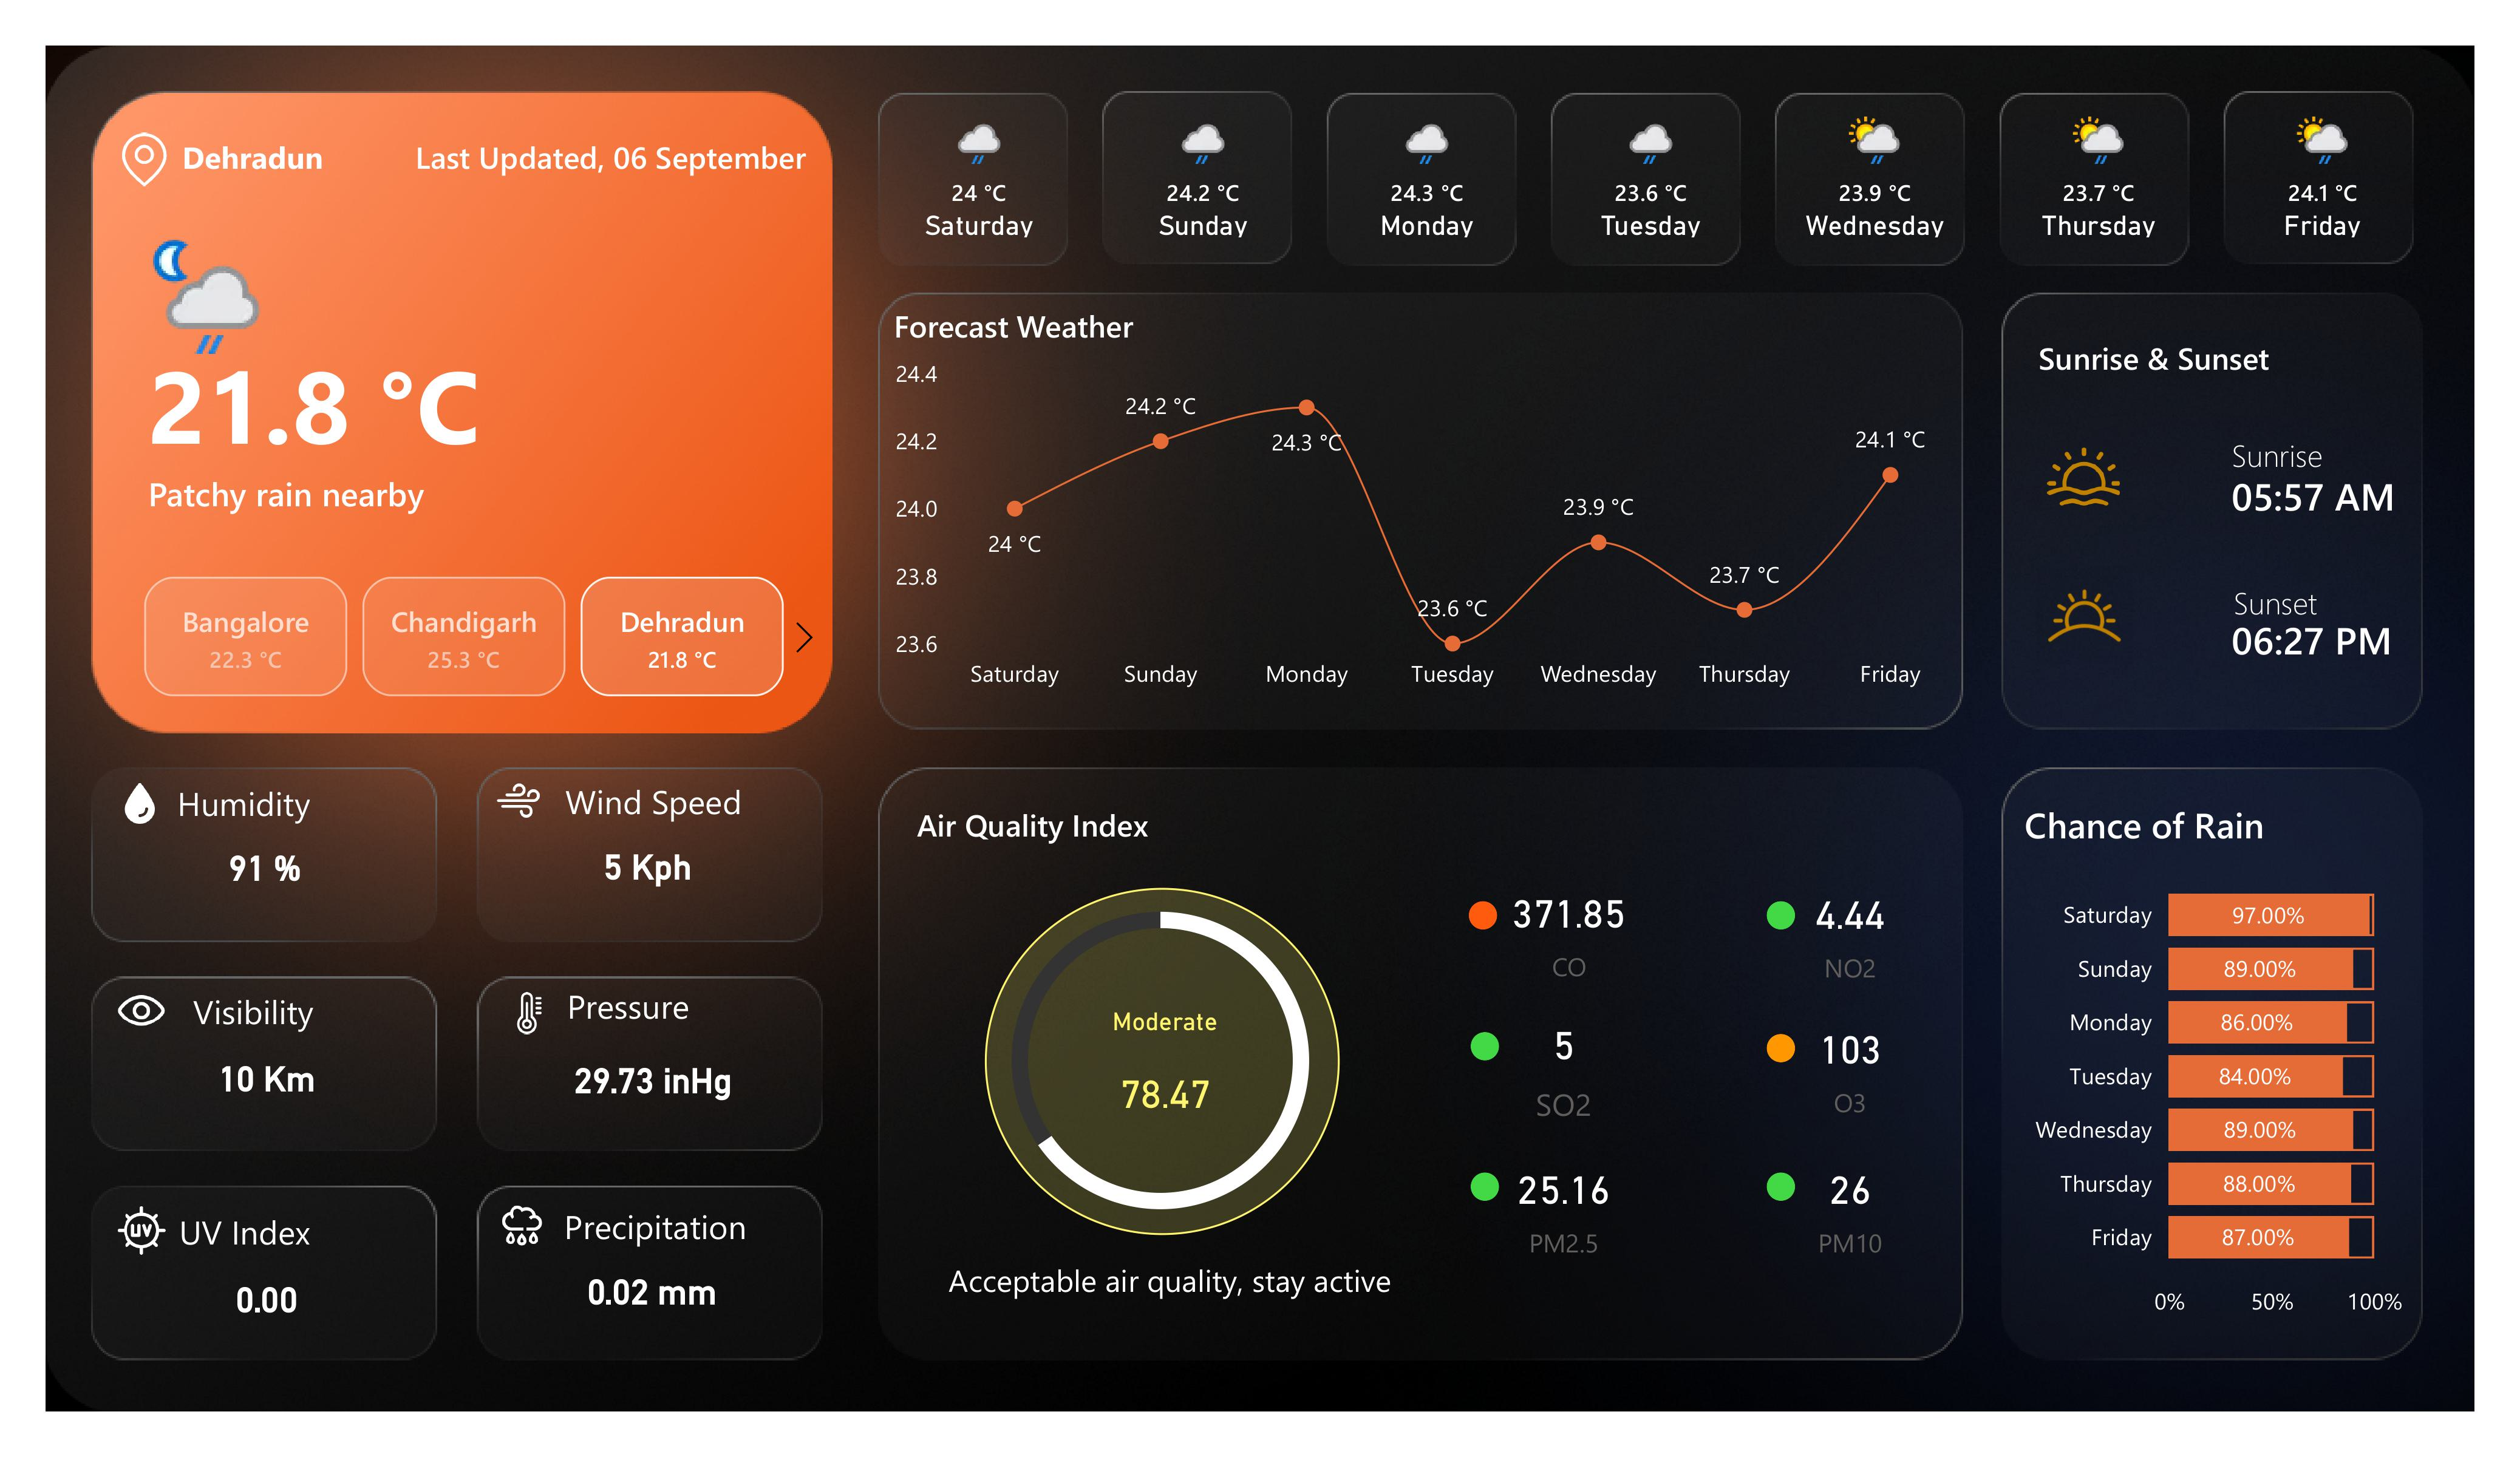

Layout of this report page (visuals, bound fields, positions):
{"tool":"powerbi","page":{"name":"Page 1","canvas":[1280,720],"ordinal":0},"visuals":[{"type":"advancedSlicerVisual","fields":{"Values":["Locations.location.name"]},"box":[26.7,275,388.3,73.3],"z":0},{"type":"image","box":[32.9,35.7,38.6,47.1],"z":1000},{"type":"image","box":[27.5,383.3,42.5,32.5],"z":2000},{"type":"image","box":[30.8,487.5,39.2,41.7],"z":3000},{"type":"image","box":[30,605.8,40,36.7],"z":4000},{"type":"image","box":[232.5,600,36.7,42.5],"z":5000},{"type":"image","box":[232.5,494.2,44.2,31.7],"z":6000},{"type":"image","box":[229.2,380.8,40,34.2],"z":7000},{"type":"shape","box":[70,487.5,79.2,40],"z":8000},{"type":"shape","box":[60,377.5,89.2,40],"z":9000},{"type":"shape","box":[260,375.7,120.7,42.1],"z":10000},{"type":"shape","box":[266.7,484.2,80,41.7],"z":11000},{"type":"shape","box":[260,600,122.5,42.5],"z":12000},{"type":"shape","box":[60.8,602.5,88.3,42.5],"z":13000},{"type":"shape","box":[53.6,147.9,179.3,78.6],"z":14000},{"type":"shape","box":[53.6,195.7,332.9,77.9],"z":15000},{"type":"shape","box":[195,35,211.4,46.4],"z":16000},{"type":"shape","box":[72.1,35,182.1,46.4],"z":17000},{"type":"cardVisual","fields":{"Data":["Min(Current.current.condition.icon)"]},"box":[7.5,81.2,128.8,106.2],"z":18000},{"type":"card","fields":{"Values":["_Measures.Humidity"]},"box":[82.7,415.5,65.5,37.3],"z":19000},{"type":"card","fields":{"Values":["_Measures.Visibiltiy"]},"box":[83.6,525.7,65.7,38.6],"z":20000},{"type":"card","fields":{"Values":["Sum(Current.current.uv)"]},"box":[88.6,642.9,55,37.1],"z":21000},{"type":"card","fields":{"Values":["Sum(Current.current.air_quality.co)"]},"box":[747.1,427.5,111.7,78.3],"z":22000},{"type":"card","fields":{"Values":["_Measures.Pressure"]},"box":[262.7,526.4,114.5,40],"z":23000},{"type":"card","fields":{"Values":["_Measures.Precipitation"]},"box":[273.6,641.8,90.9,30.9],"z":24000},{"type":"advancedSlicerVisual","fields":{"Values":["Forecast_Day.Day_Name"]},"box":[431.8,27.3,833.6,80],"z":25000},{"type":"lineChart","title":"Forecast Weather","fields":{"Y":["Sum(Forecast_Day.forecast.forecastday.day.avgtemp_c)"],"Category":["Forecast_Day.Day_Name"]},"box":[442.2,136.7,565.6,212.2],"z":26000},{"type":"shape","box":[1038.3,136.7,133.3,55],"z":27000},{"type":"shape","box":[1151.7,210,98.3,51.7],"z":28000},{"type":"shape","box":[1151.7,293.3,95,38.3],"z":29000},{"type":"shape","box":[1151.8,190,98.2,50.9],"z":30000},{"type":"shape","box":[1152.7,273.6,94.5,38.2],"z":31000},{"type":"image","box":[1050,202.9,47.6,48.6],"z":32000},{"type":"image","box":[1041,270.5,66.7,61],"z":33000},{"type":"hundredPercentStackedBarChart","title":"Chance of Rain","fields":{"Y":["Sum(Forecast_Day.forecast.forecastday.day.daily_chance_of_rain)","Current.Left_value_Rain"],"Category":["Forecast_Day.Day_Name"]},"box":[1038.3,398.3,208.3,281.7],"z":34000},{"type":"shape","box":[447.9,382.9,133.6,55],"z":35000},{"type":"card","fields":{"Values":["Sum(Current.current.air_quality.no2)"]},"box":[922.5,427.6,58,78],"z":36000},{"type":"card","fields":{"Values":["Sum(Current.current.air_quality.pm2_5)"]},"box":[744.5,572.6,112,78],"z":37000},{"type":"card","fields":{"Values":["Sum(Current.current.air_quality.o3)"]},"box":[895.5,498.6,112,78],"z":38000},{"type":"card","fields":{"Values":["Sum(Current.current.air_quality.pm10)"]},"box":[895.5,572.6,112,78],"z":39000},{"type":"card","fields":{"Values":["Sum(Current.current.air_quality.so2)"]},"box":[744.5,498.6,112,78],"z":40000},{"type":"shape","box":[750.3,450.9,15,15],"z":41000},{"type":"shape","box":[907.3,593.7,15,15],"z":42000},{"type":"shape","box":[750.6,593.7,15,15],"z":43000},{"type":"shape","box":[750.6,520.4,15,15],"z":44000},{"type":"shape","box":[907.3,521.2,15,15],"z":45000},{"type":"shape","box":[907.3,451.2,15,15],"z":46000},{"type":"shape","box":[494.8,443.9,187.1,182.9],"z":47000},{"type":"donutChart","fields":{"Y":["Sum(Current.CO)","_Measures.Left_value_03"]},"box":[430,431.8,315.5,206.4],"z":48000},{"type":"card","fields":{"Values":["_Measures.Final_AQI"]},"box":[533.6,507.2,112,78],"z":49000},{"type":"shape","box":[458.6,611.4,267.1,77.1],"z":50000},{"type":"card","fields":{"Values":["_Measures.Wind_Speed"]},"box":[279.1,415.5,76.4,36.4],"z":51000}]}

Visuals, with their boxes on the page's 1280x720 design canvas (x1, y1, x2, y2). These are canvas units, not pixel positions in the 2520x1457 screenshot, which may show the page scaled, cropped or inside an application window:
advancedSlicerVisual - Locations.location.name: [x1=27, y1=275, x2=415, y2=348]
image: [x1=33, y1=36, x2=72, y2=83]
image: [x1=28, y1=383, x2=70, y2=416]
image: [x1=31, y1=488, x2=70, y2=529]
image: [x1=30, y1=606, x2=70, y2=642]
image: [x1=232, y1=600, x2=269, y2=642]
image: [x1=232, y1=494, x2=277, y2=526]
image: [x1=229, y1=381, x2=269, y2=415]
shape: [x1=70, y1=488, x2=149, y2=528]
shape: [x1=60, y1=378, x2=149, y2=418]
shape: [x1=260, y1=376, x2=381, y2=418]
shape: [x1=267, y1=484, x2=347, y2=526]
shape: [x1=260, y1=600, x2=382, y2=642]
shape: [x1=61, y1=602, x2=149, y2=645]
shape: [x1=54, y1=148, x2=233, y2=226]
shape: [x1=54, y1=196, x2=386, y2=274]
shape: [x1=195, y1=35, x2=406, y2=81]
shape: [x1=72, y1=35, x2=254, y2=81]
cardVisual - Min(Current.current.condition.icon): [x1=8, y1=81, x2=136, y2=187]
card - _Measures.Humidity: [x1=83, y1=416, x2=148, y2=453]
card - _Measures.Visibiltiy: [x1=84, y1=526, x2=149, y2=564]
card - Sum(Current.current.uv): [x1=89, y1=643, x2=144, y2=680]
card - Sum(Current.current.air_quality.co): [x1=747, y1=428, x2=859, y2=506]
card - _Measures.Pressure: [x1=263, y1=526, x2=377, y2=566]
card - _Measures.Precipitation: [x1=274, y1=642, x2=364, y2=673]
advancedSlicerVisual - Forecast_Day.Day_Name: [x1=432, y1=27, x2=1265, y2=107]
"Forecast Weather" lineChart: [x1=442, y1=137, x2=1008, y2=349]
shape: [x1=1038, y1=137, x2=1172, y2=192]
shape: [x1=1152, y1=210, x2=1250, y2=262]
shape: [x1=1152, y1=293, x2=1247, y2=332]
shape: [x1=1152, y1=190, x2=1250, y2=241]
shape: [x1=1153, y1=274, x2=1247, y2=312]
image: [x1=1050, y1=203, x2=1098, y2=252]
image: [x1=1041, y1=270, x2=1108, y2=332]
"Chance of Rain" hundredPercentStackedBarChart: [x1=1038, y1=398, x2=1247, y2=680]
shape: [x1=448, y1=383, x2=582, y2=438]
card - Sum(Current.current.air_quality.no2): [x1=922, y1=428, x2=980, y2=506]
card - Sum(Current.current.air_quality.pm2_5): [x1=744, y1=573, x2=856, y2=651]
card - Sum(Current.current.air_quality.o3): [x1=896, y1=499, x2=1008, y2=577]
card - Sum(Current.current.air_quality.pm10): [x1=896, y1=573, x2=1008, y2=651]
card - Sum(Current.current.air_quality.so2): [x1=744, y1=499, x2=856, y2=577]
shape: [x1=750, y1=451, x2=765, y2=466]
shape: [x1=907, y1=594, x2=922, y2=609]
shape: [x1=751, y1=594, x2=766, y2=609]
shape: [x1=751, y1=520, x2=766, y2=535]
shape: [x1=907, y1=521, x2=922, y2=536]
shape: [x1=907, y1=451, x2=922, y2=466]
shape: [x1=495, y1=444, x2=682, y2=627]
donutChart - Sum(Current.CO) x _Measures.Left_value_03: [x1=430, y1=432, x2=746, y2=638]
card - _Measures.Final_AQI: [x1=534, y1=507, x2=646, y2=585]
shape: [x1=459, y1=611, x2=726, y2=688]
card - _Measures.Wind_Speed: [x1=279, y1=416, x2=356, y2=452]
